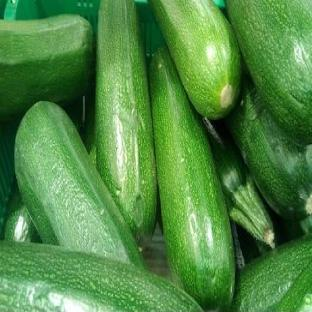Zucchini: (150, 48, 235, 308), (15, 102, 143, 266), (0, 243, 201, 311), (227, 84, 311, 219), (0, 15, 92, 118), (205, 119, 274, 247), (231, 236, 311, 311), (4, 185, 39, 242), (275, 263, 311, 311), (83, 92, 96, 165), (300, 216, 311, 233)
